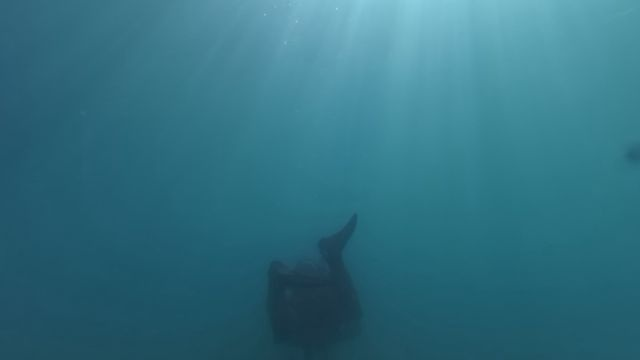Diver: (253, 212, 375, 357)
